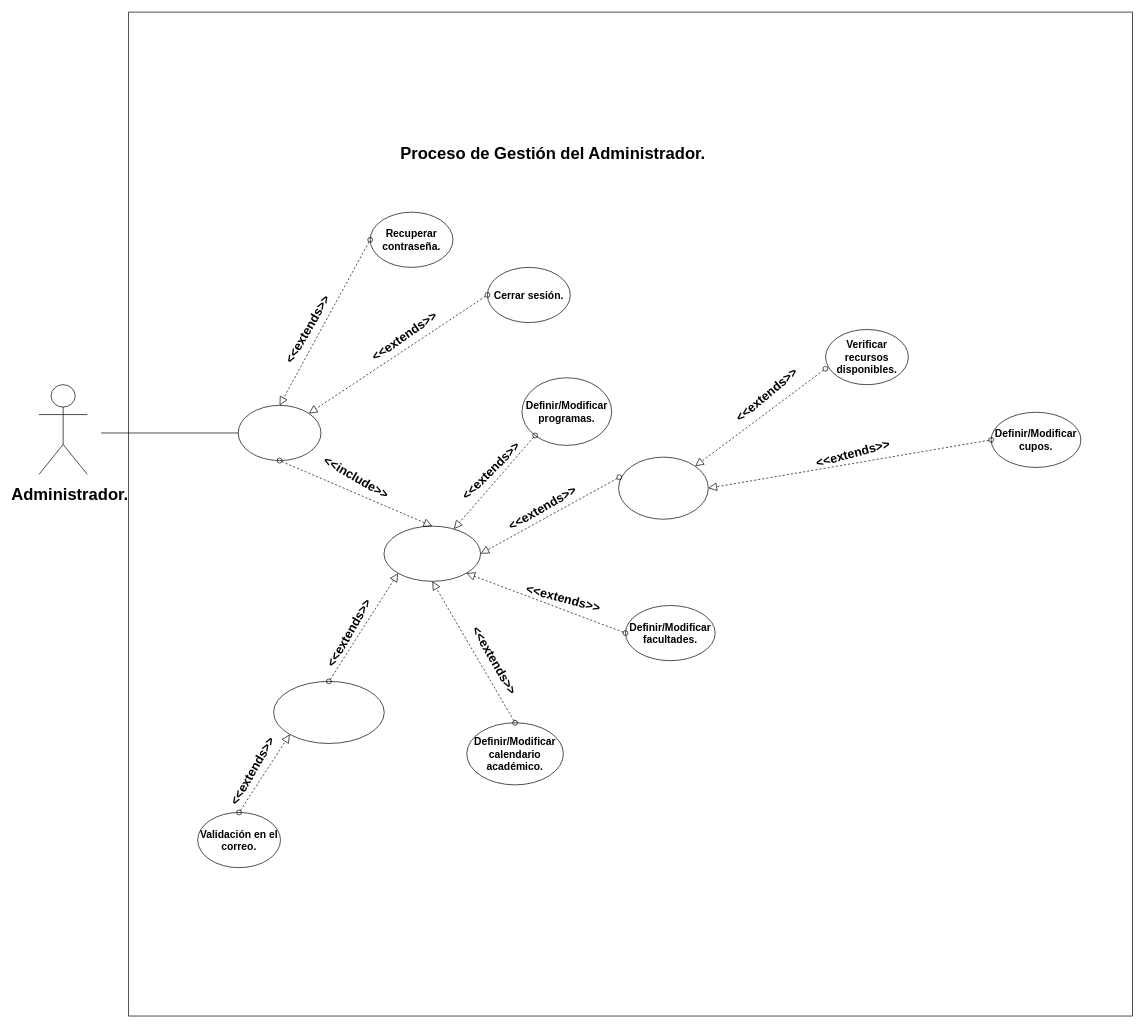
Image size: 1145x1028. Some labels were removed from this diagram. The shapes that lost their labels are listed below. From the top down, each one's centre as x and y in pixels, then its label:
point (279, 433): Gestionar sesión.
point (663, 487): Definir/Modificar horarios.
point (432, 553): Autenticar sesión.
point (328, 712): Solicitar cambio de contraseña de usuario.
